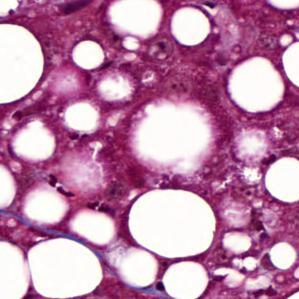steatosis: (129, 188, 215, 259), (0, 23, 45, 106), (170, 8, 211, 48), (266, 156, 299, 203), (71, 38, 107, 70)
